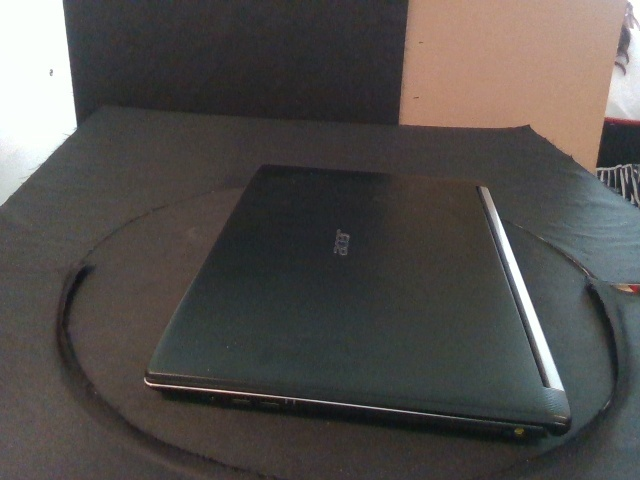laptop: (143, 163, 571, 448)
